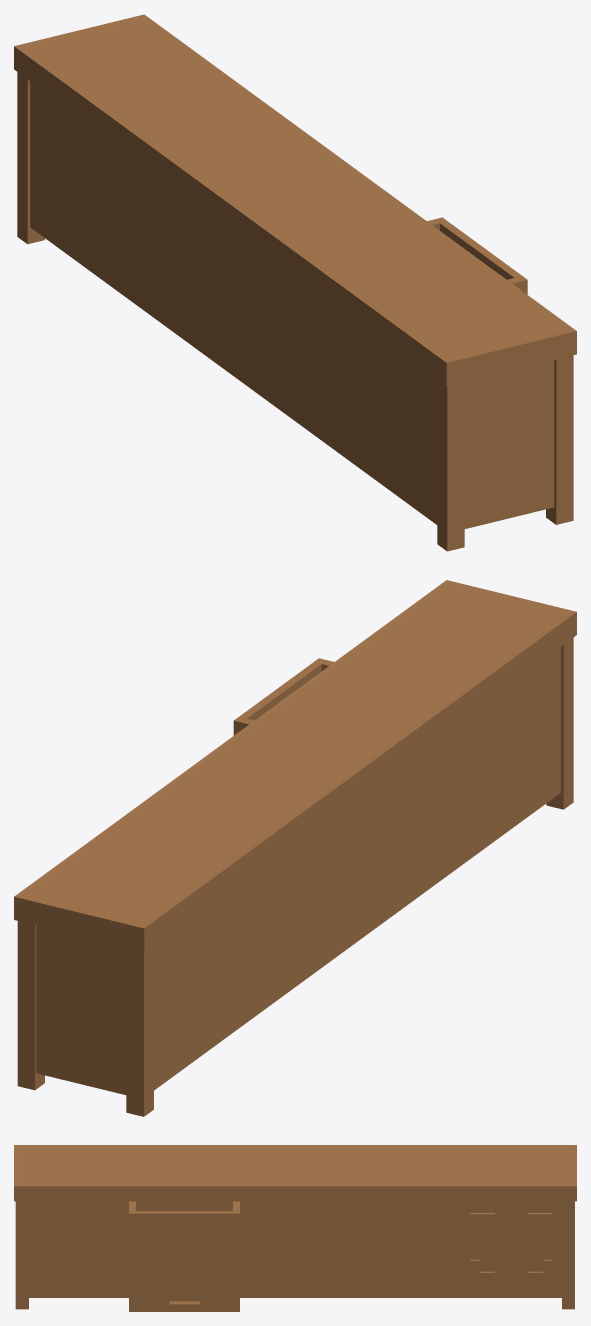
File: BuffetTable.fbx
The picture shows the model from 3 angles, top to bottom: view 1: azimuth 30°, elevation 25°; view 2: azimuth 150°, elevation 25°; view 3: azimuth 270°, elevation 25°; orthographic projection. The views are drawn at different scales.
Visible parts, largest first — view 1: Buffet_Table; view 2: Buffet_Table; view 3: Buffet_Table.
Part boxes in pixels (<box>): Buffet_Table: <box>14,14,576,551</box>; Buffet_Table: <box>14,580,576,1116</box>; Buffet_Table: <box>14,1145,576,1311</box>.
Bounding box in the file's own units: 85.68 × 91.8 × 379.
